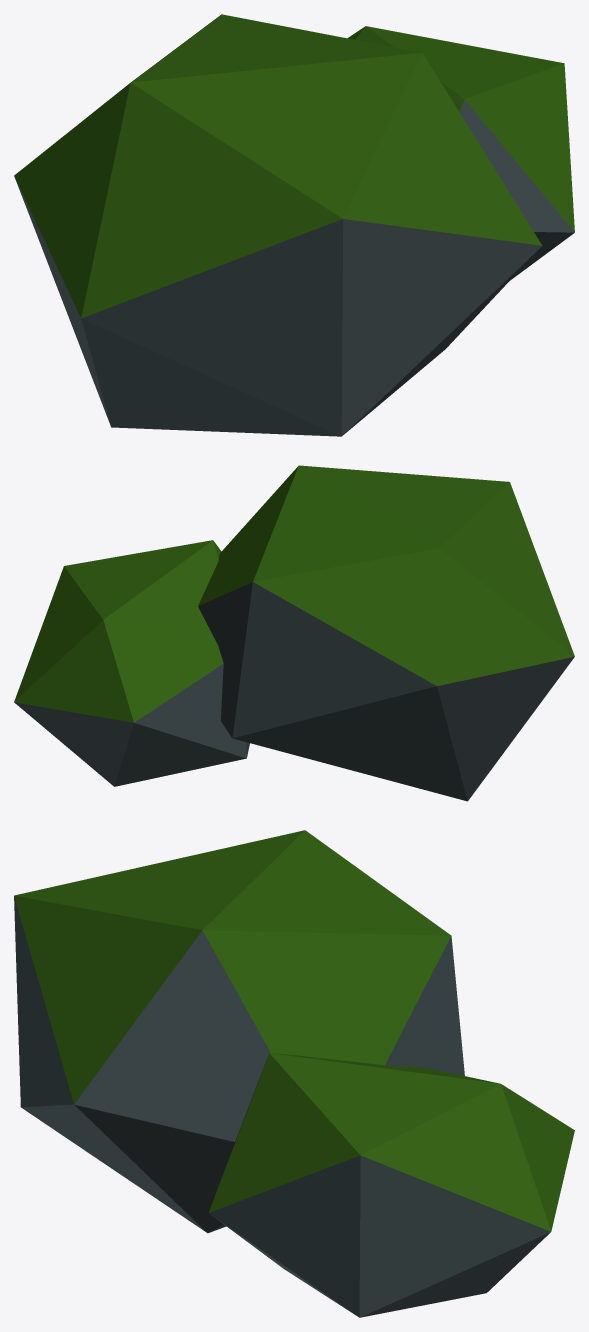
The model's file is world_boulder_mossy_m.fbx.
The picture shows the model from 3 angles, top to bottom: view 1: azimuth 30°, elevation 25°; view 2: azimuth 150°, elevation 25°; view 3: azimuth 270°, elevation 25°; orthographic projection. The views are drawn at different scales.
Visible parts, largest first — view 1: world_boulder_mossy_m; view 2: world_boulder_mossy_m; view 3: world_boulder_mossy_m.
Part boxes in pixels (left/top/right/bottom): world_boulder_mossy_m: left=14, top=14, right=574, bottom=436; world_boulder_mossy_m: left=14, top=465, right=574, bottom=801; world_boulder_mossy_m: left=14, top=830, right=574, bottom=1317.
Size of the model in its own units: 623 by 349 by 543.
